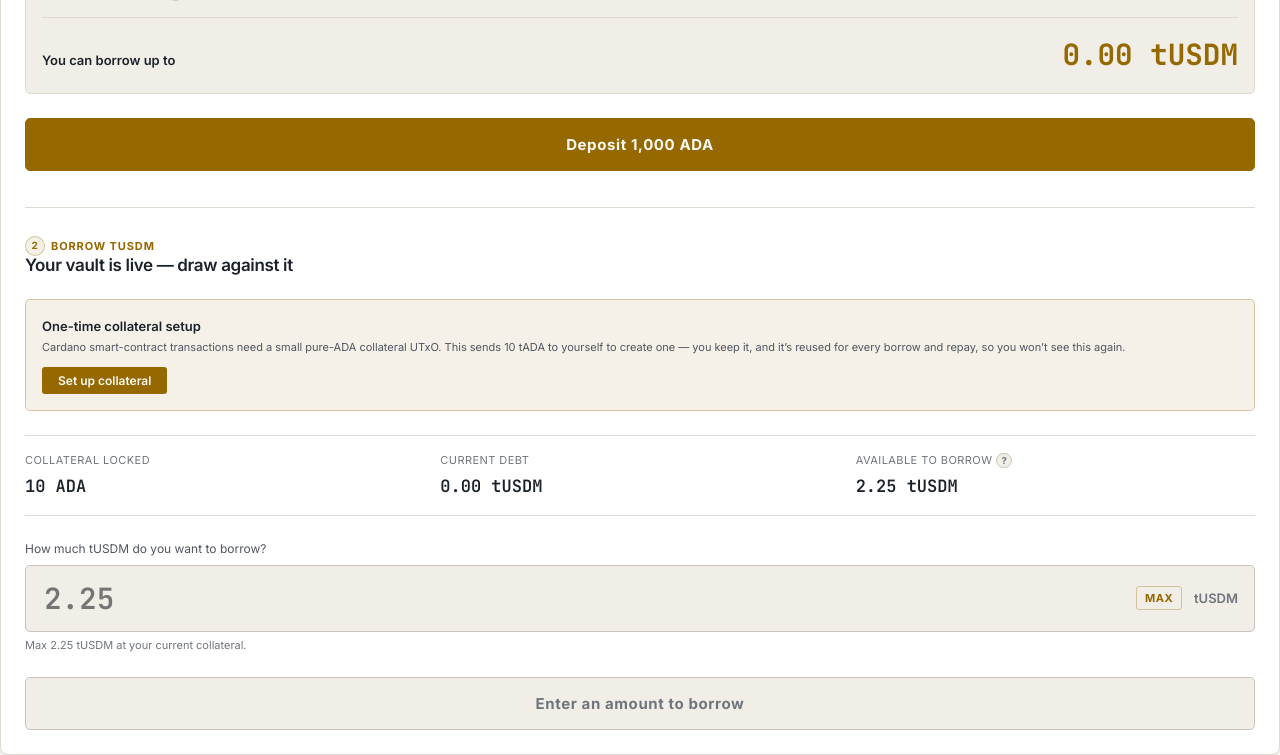
Test case: BorrowPanel borrow validation › surfaces server rejections inside the borrow section
(page scrolled)
Type "2" into the field labelled "How much tUSDM do you want to borrow?" at point(583, 598), box [42,578,1124,619]
(page scrolled)
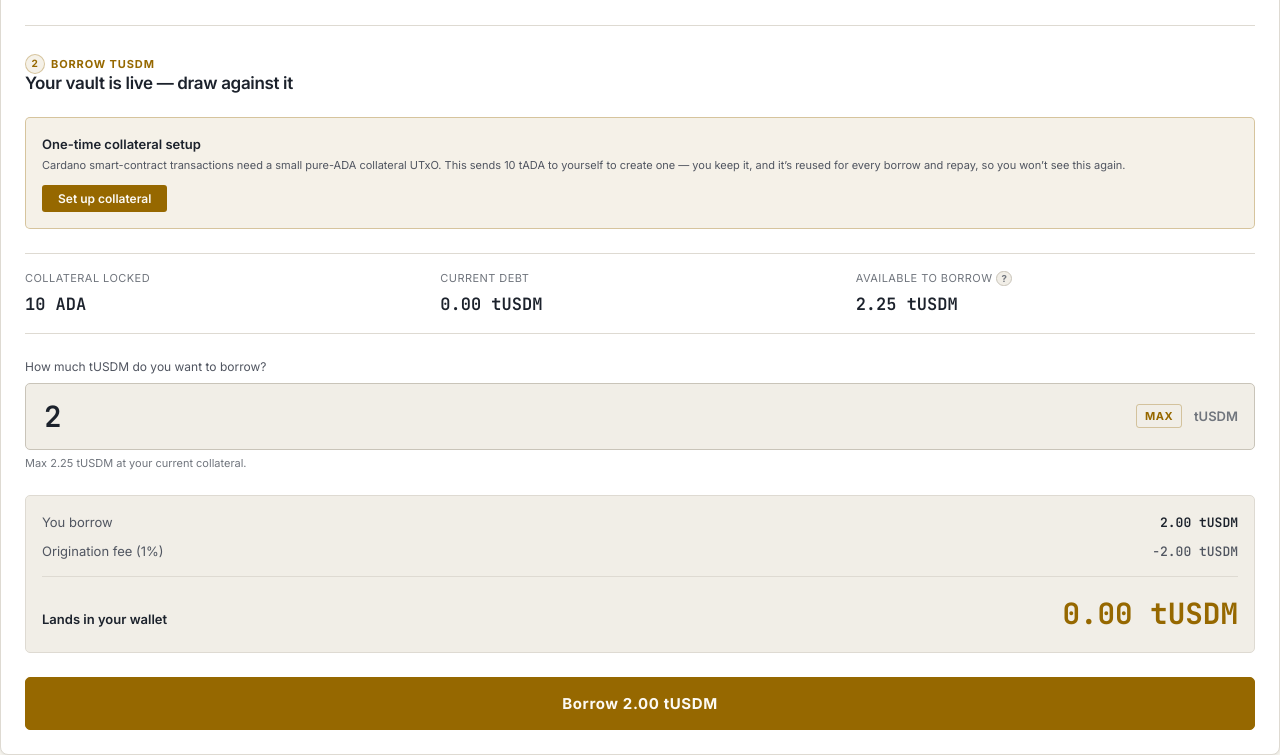
Click the button "Borrow 2.00 tUSDM" at point(640, 704), box [25,677,1255,730]
(page scrolled)
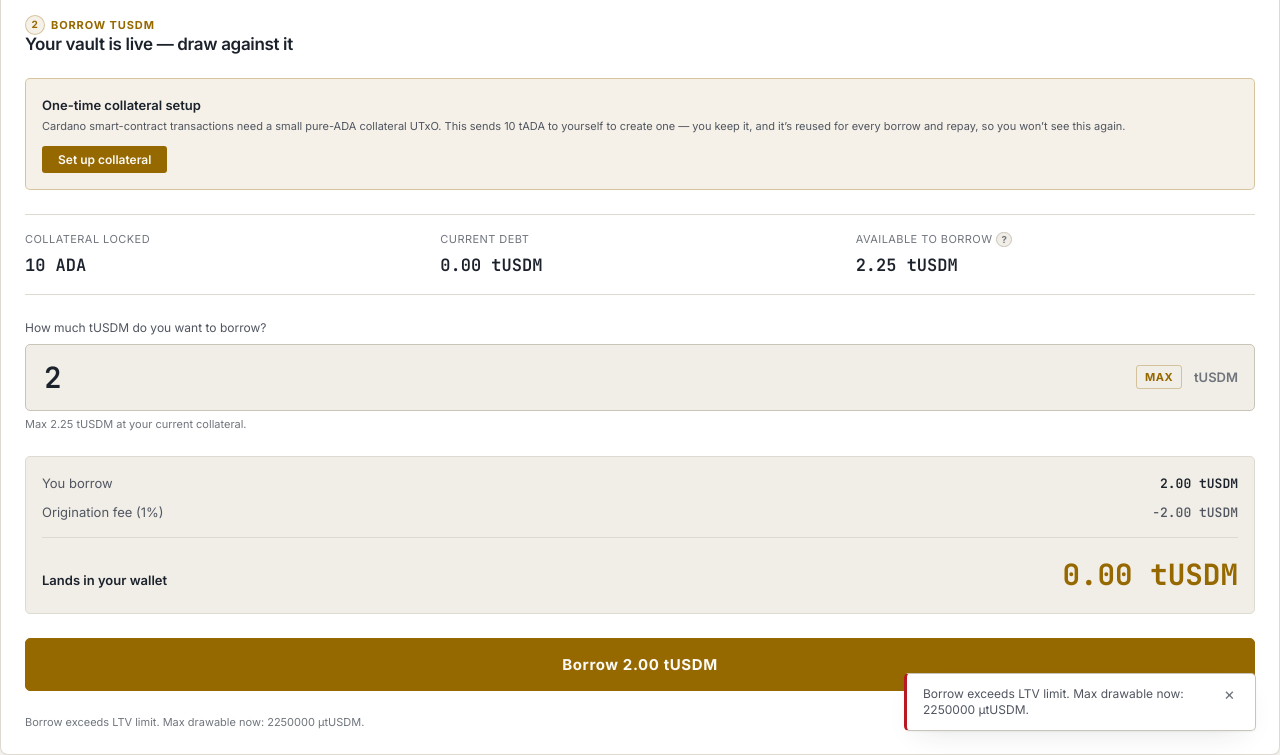
Result: the message "Borrow exceeds LTV limit. Max drawable now: 2250000 µtUSDM." is shown at [25,715,364,729]
